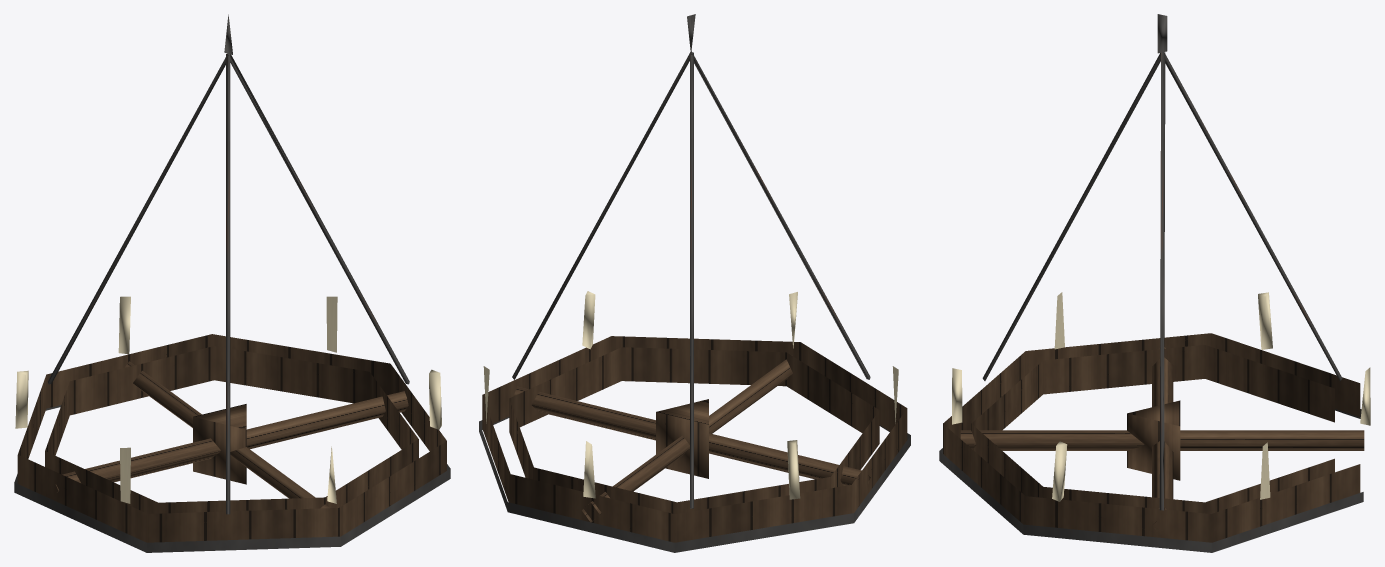
Rendered from Chandelier_LOD2.gltf.
The picture shows the model from 3 angles, left to right: view 1: azimuth 30°, elevation 25°; view 2: azimuth 150°, elevation 25°; view 3: azimuth 270°, elevation 25°; orthographic projection.
Visible parts, largest first — view 1: Chandelier_LOD2; view 2: Chandelier_LOD2; view 3: Chandelier_LOD2.
Boxes of the visible parts, left/top/right/bottom form: Chandelier_LOD2: left=14, top=14, right=450, bottom=552; Chandelier_LOD2: left=479, top=14, right=910, bottom=552; Chandelier_LOD2: left=939, top=14, right=1370, bottom=552.
Size of the model in its own units: 1.27 by 1.46 by 1.26.
Materials: 3 (3 with a texture image).
